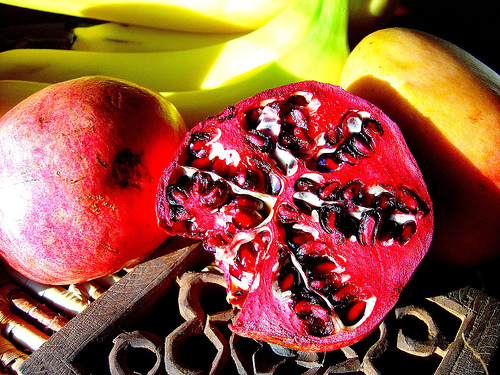pomogranate: (159, 82, 434, 353), (0, 76, 187, 287)
